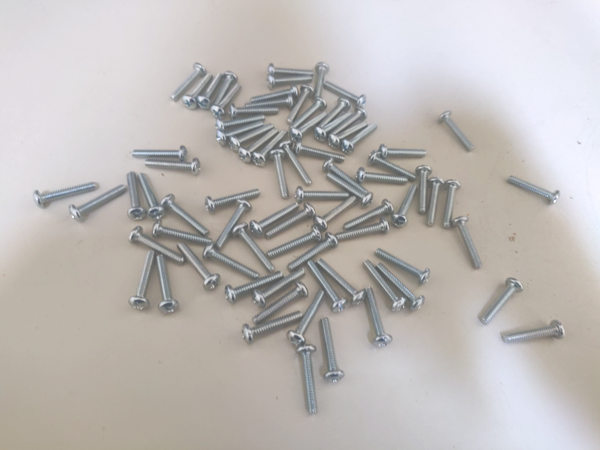longscrew: (251, 279, 308, 328), (68, 184, 127, 223), (361, 260, 405, 311), (242, 309, 306, 344), (378, 263, 423, 312), (224, 266, 283, 303), (174, 242, 219, 290), (253, 267, 306, 305), (481, 277, 522, 326), (511, 167, 561, 207), (130, 227, 183, 264), (163, 190, 205, 236), (268, 222, 323, 257), (282, 234, 337, 269), (320, 260, 363, 304), (307, 261, 344, 312), (313, 318, 342, 383), (448, 218, 484, 270), (379, 249, 429, 286), (32, 182, 100, 209), (327, 174, 377, 210), (232, 225, 271, 271), (291, 291, 322, 346), (150, 256, 178, 316), (343, 199, 395, 231), (205, 246, 256, 278), (324, 158, 369, 193), (216, 201, 250, 247), (363, 288, 389, 347), (253, 203, 298, 237), (270, 203, 315, 237), (371, 150, 418, 182), (301, 344, 320, 420), (240, 126, 278, 164), (495, 324, 568, 343), (441, 111, 474, 152), (279, 143, 310, 185), (205, 189, 263, 211), (138, 172, 165, 219), (153, 224, 213, 245), (218, 119, 270, 143), (296, 186, 355, 207), (230, 127, 277, 153), (335, 221, 391, 241), (326, 80, 369, 106), (182, 72, 212, 109), (133, 251, 152, 309), (214, 82, 244, 118), (327, 110, 367, 137), (209, 72, 238, 109), (297, 143, 348, 164), (124, 173, 146, 221), (254, 130, 286, 163), (319, 197, 353, 228), (174, 63, 203, 99), (198, 71, 227, 107), (343, 124, 380, 152), (271, 146, 289, 201), (133, 142, 190, 159), (147, 156, 204, 173), (316, 112, 353, 138), (359, 168, 412, 186), (329, 121, 368, 145), (293, 97, 326, 125), (288, 84, 311, 124), (291, 115, 329, 138), (445, 177, 460, 231), (401, 180, 417, 229), (268, 62, 315, 78), (269, 71, 316, 87), (253, 85, 300, 101), (231, 103, 278, 119), (219, 115, 265, 131), (247, 94, 294, 109), (321, 99, 348, 124), (429, 174, 441, 230), (382, 146, 432, 158), (419, 164, 430, 216), (316, 62, 329, 100)
